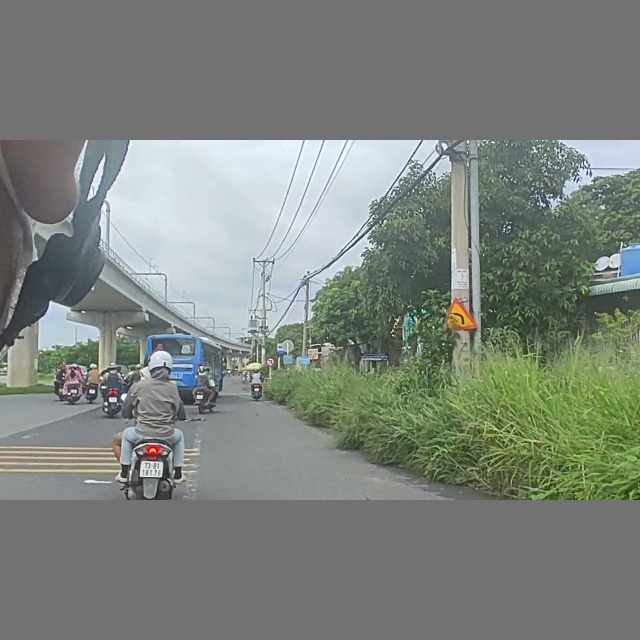I.434a: (275, 342, 287, 355)
P.123a: (265, 357, 275, 366)
W.201a: (442, 297, 480, 329)
